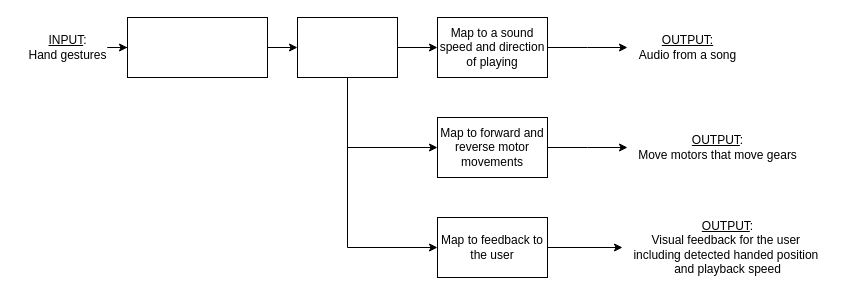
Image size: 849x300. Some labels were removed from this diagram. Each missing label, with the centre of its shape:
"Get images from PC camera and send to pose detection software (p5.js, ml5.js)" goes at point (197, 47).
"Get Position of wrist (ml5.js)" goes at point (347, 47).
